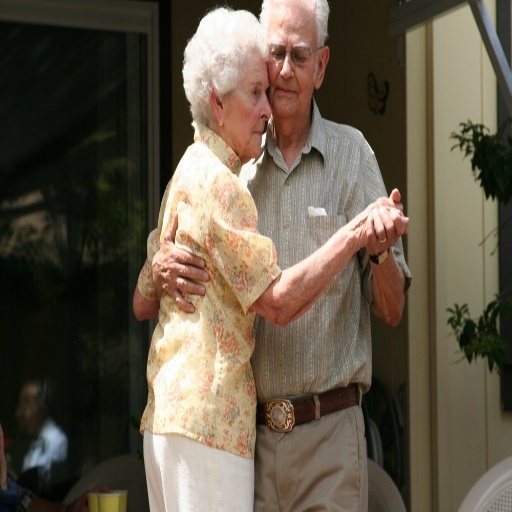hand: (151, 209, 210, 315), (361, 185, 408, 254)
